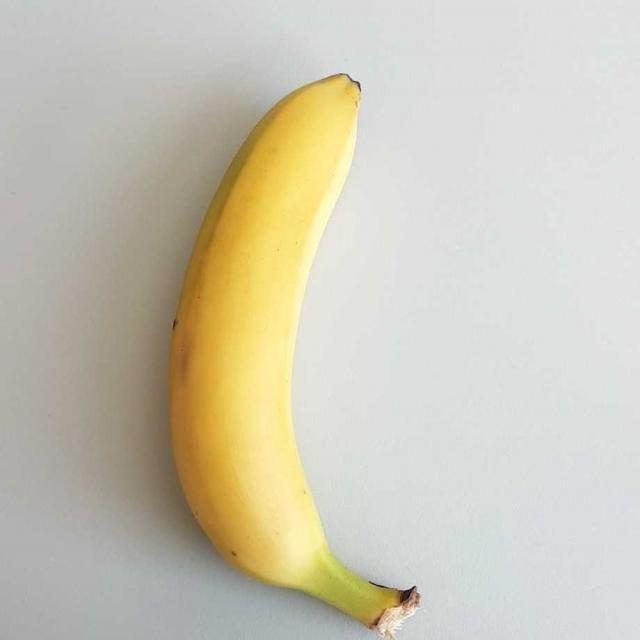banana: (168, 104, 394, 596)
